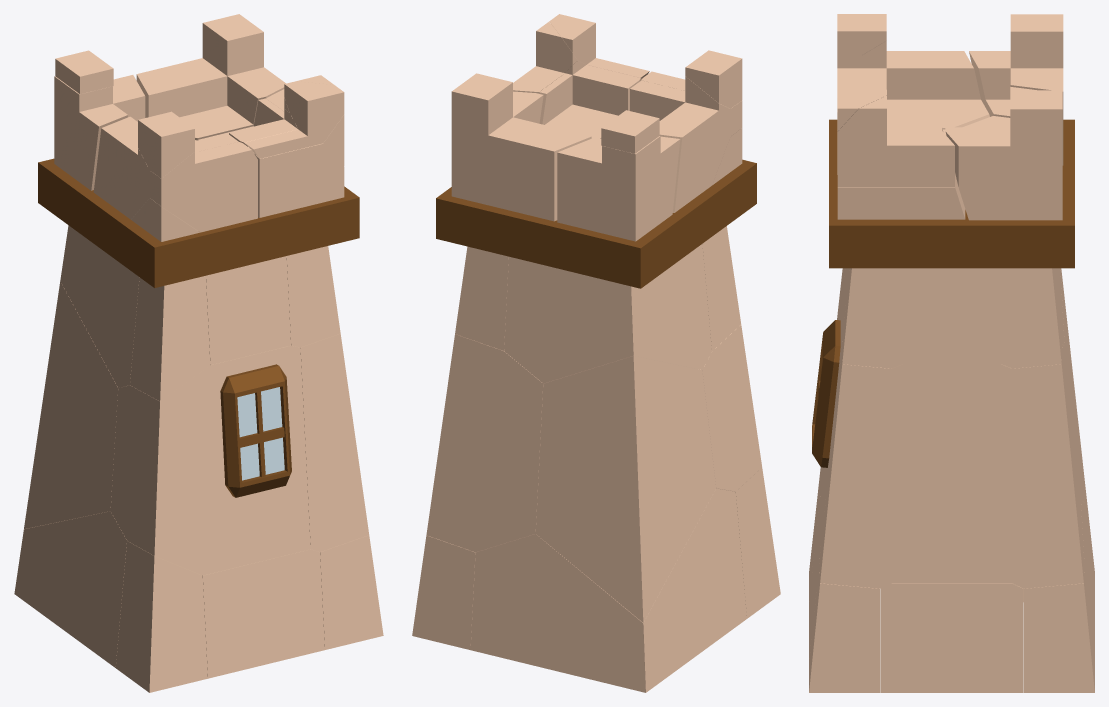
Rendered from Tower_00.fbx.
The picture shows the model from 3 angles, left to right: view 1: azimuth 30°, elevation 25°; view 2: azimuth 150°, elevation 25°; view 3: azimuth 270°, elevation 25°; orthographic projection. The views are drawn at different scales.
Visible parts, largest first — view 1: TowerPart.015, Top.008, Top_Support, TowerPart.014, TowerPart.017, TowerPart.002, Top.001, TowerPart.008, TowerPart.012, Top.005, TowerPart.009, TowerPart.006 (+5 smaller); view 2: TowerPart.014, TowerPart.001, TowerPart.007, Top_Support, Top.005, TowerPart, TowerPart.002, Top.008, Top.009, Top.001, TowerPart.005, TowerPart.015 (+5 smaller); view 3: TowerPart.010, TowerPart.011, TowerPart.001, Top_Support, TowerPart.012, Top.001, Top.005, Top.008, TowerPart.003, TowerPart.018, TowerPart.019, TowerPart.004 (+7 smaller).
Boxes of the visible parts, x1,y1,x2,y2 form: TowerPart.015: [110, 345, 310, 575]; Top.008: [93, 111, 257, 241]; Top_Support: [38, 158, 359, 287]; TowerPart.014: [24, 281, 118, 528]; TowerPart.017: [202, 549, 324, 678]; TowerPart.002: [14, 511, 126, 667]; Top.001: [198, 75, 344, 217]; TowerPart.008: [115, 541, 207, 692]; TowerPart.012: [300, 333, 369, 551]; Top.005: [136, 14, 285, 140]; TowerPart.009: [130, 276, 210, 401]; TowerPart.006: [206, 256, 290, 364]; TowerPart.014: [535, 356, 716, 622]; TowerPart.001: [426, 334, 543, 552]; TowerPart.007: [470, 534, 645, 692]; Top_Support: [436, 159, 756, 288]; Top.005: [451, 73, 591, 221]; TowerPart: [504, 256, 633, 383]; TowerPart.002: [643, 488, 746, 692]; Top.008: [630, 50, 742, 212]; Top.009: [557, 136, 680, 241]; Top.001: [513, 14, 649, 138]; TowerPart.005: [631, 244, 711, 369]; TowerPart.015: [700, 324, 761, 491]; TowerPart.010: [891, 364, 1012, 583]; TowerPart.011: [880, 583, 1023, 692]; TowerPart.001: [1012, 344, 1084, 588]; Top_Support: [829, 119, 1074, 268]; TowerPart.012: [819, 348, 891, 588]; Top.001: [837, 89, 965, 219]; Top.005: [945, 87, 1062, 220]; Top.008: [837, 14, 989, 174]; TowerPart.003: [902, 268, 1001, 364]; TowerPart.018: [1023, 564, 1094, 692]; TowerPart.019: [809, 564, 880, 692]; TowerPart.004: [1001, 268, 1062, 368].
Size of the model in its own units: 338 by 746 by 338.
